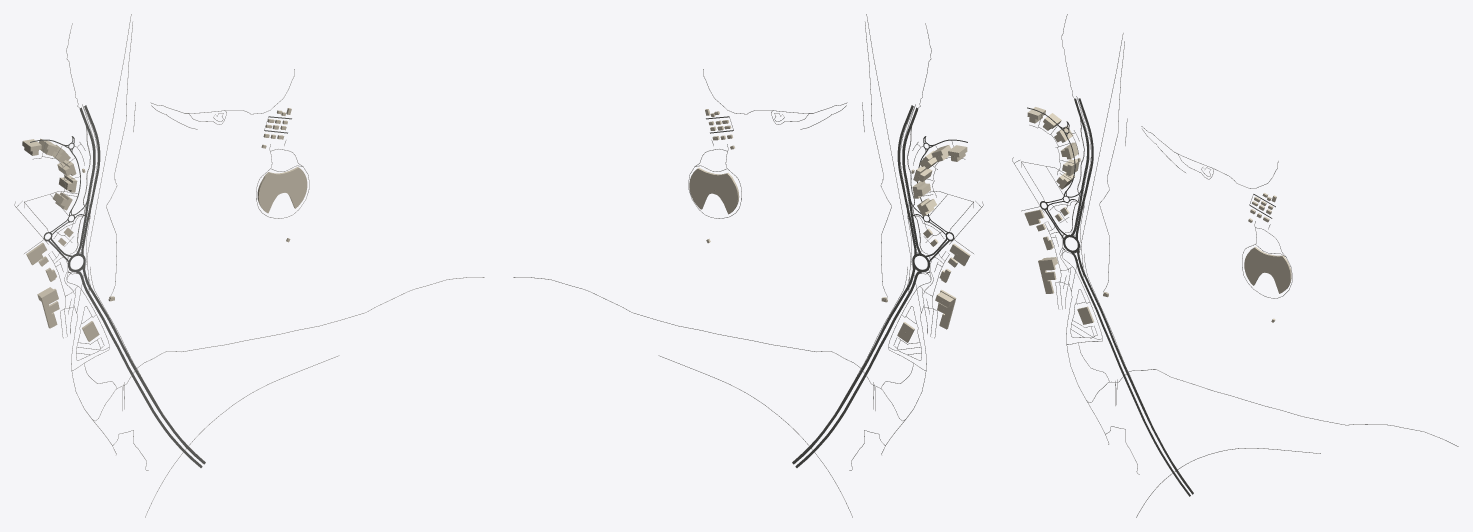
The model's file is historic-palestine-09_35_3508_3291.glb.
3 views of the same model, side by side, from view 1: azimuth 30°, elevation 25°; view 2: azimuth 150°, elevation 25°; view 3: azimuth 330°, elevation 25° (orthographic). The views are drawn at different scales.
Visible parts, largest first — view 1: Building_.026, Road דוד רמז.004, Road דוד רמז.001; view 2: Building_.026, Road דוד רמז.004, Road דוד רמז.001; view 3: Building_.026, Road דוד רמז.004, Road דוד רמז.001.
Part boxes in pixels (x1,y1,x2,y2): Building_.026: (257,167,307,213); Road דוד רמז.004: (102,319,202,467); Road דוד רמז.001: (107,316,205,464); Building_.026: (689,168,739,214); Road דוד רמז.004: (795,319,895,467); Road דוד רמז.001: (792,316,890,464); Building_.026: (1244,247,1291,293); Road דוד רמז.004: (1096,310,1190,496); Road דוד רמז.001: (1100,309,1193,494).
Size of the model in its own units: 1617 by 1685 by 50.2.
